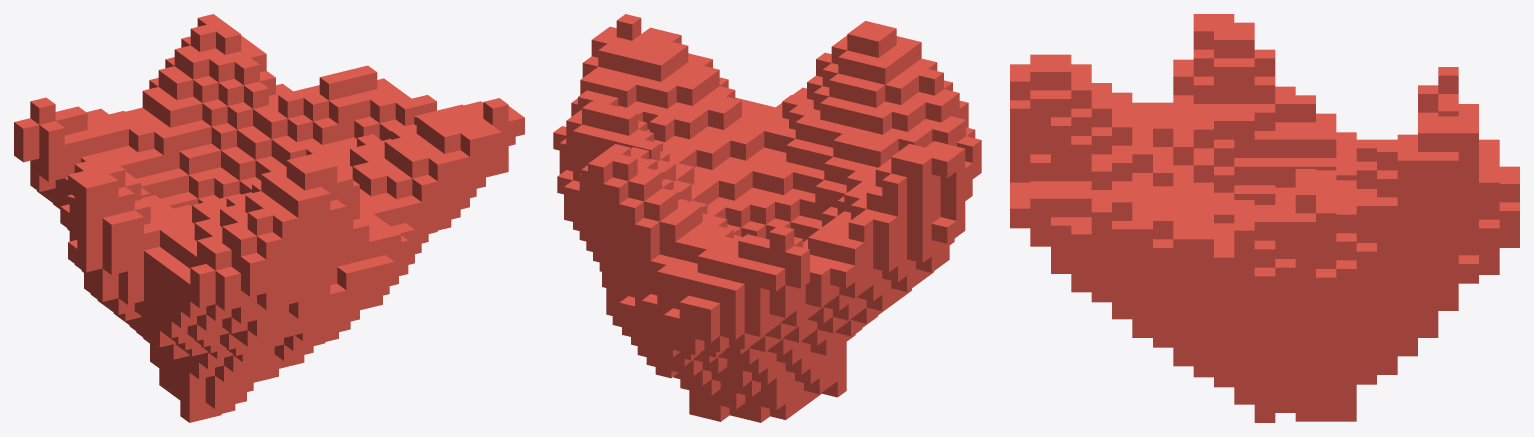
Rendered from BigCoral2.fbx.
3 renders of one model, left to right at view 1: azimuth 30°, elevation 25°; view 2: azimuth 150°, elevation 25°; view 3: azimuth 270°, elevation 25°, orthographic. The views are drawn at different scales.
Parts seen in each view (by area): view 1: Landscape.006; view 2: Landscape.006; view 3: Landscape.006.
Boxes of the visible parts, x1=… form: Landscape.006: x1=14, y1=14, x2=524, y2=422; Landscape.006: x1=553, y1=14, x2=981, y2=422; Landscape.006: x1=1010, y1=14, x2=1519, y2=422.
Bounding box in the file's own units: 121 × 91.91 × 121.
